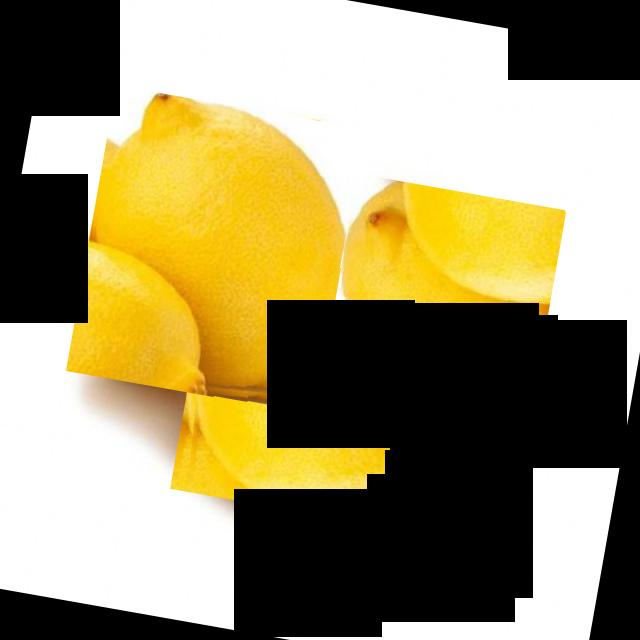lemon: (65, 85, 368, 415), (170, 260, 496, 540), (316, 172, 566, 424)
